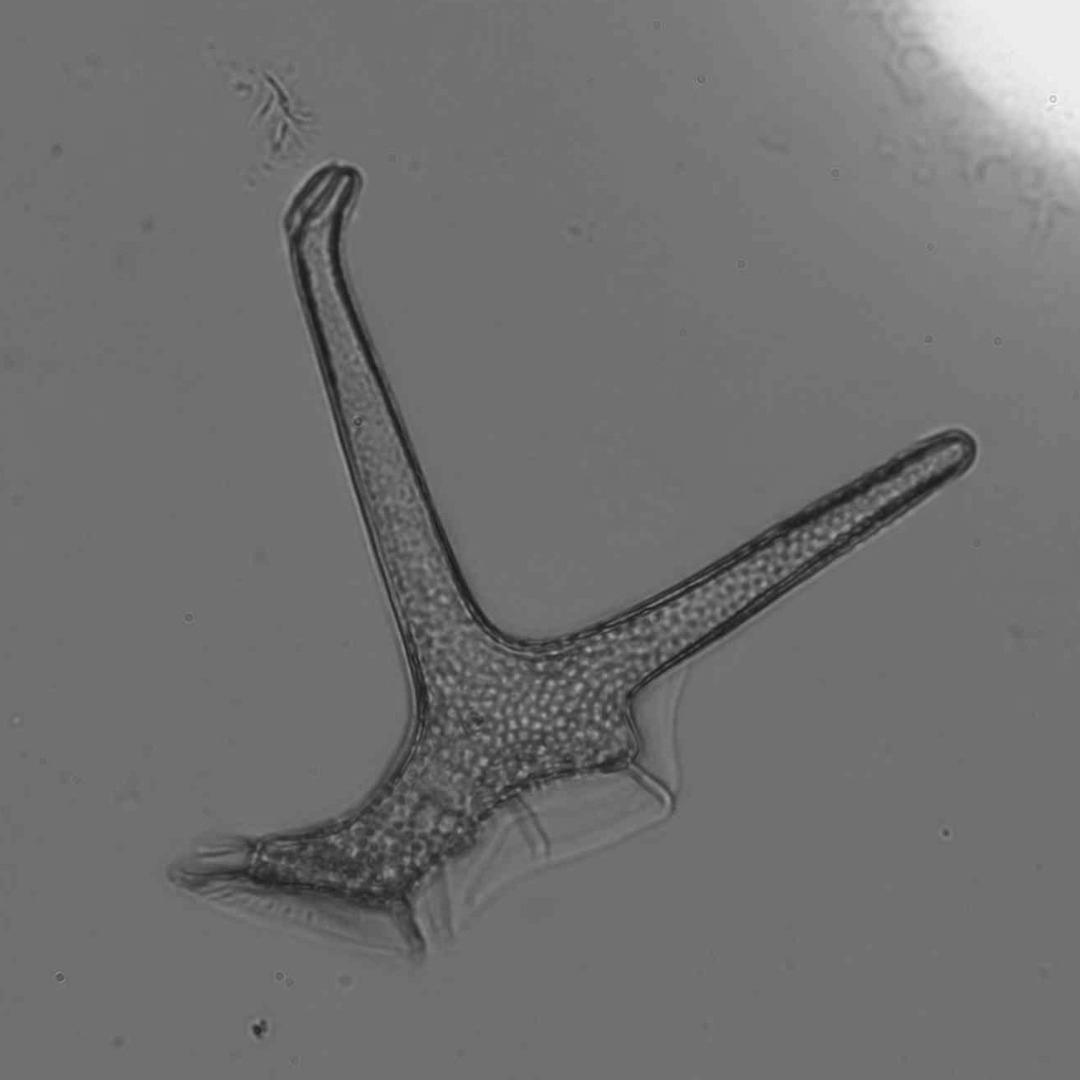dinophysis_miles: (167, 170, 970, 956)
